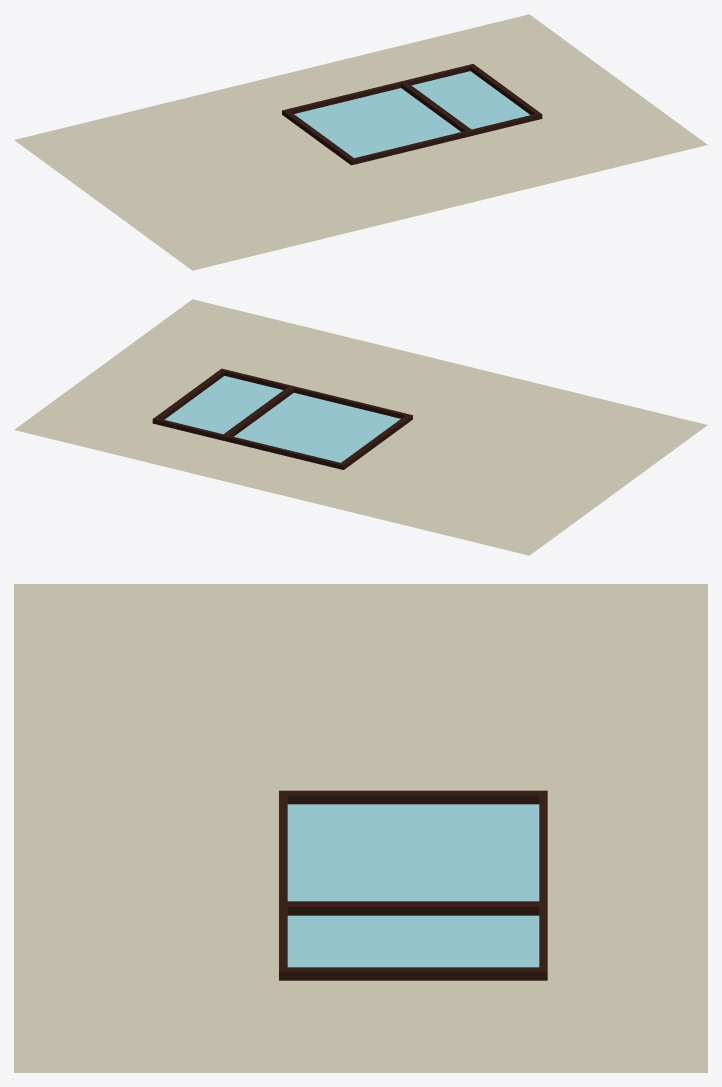
File: window_wall2.fbx
3 renders of one model, top to bottom at view 1: azimuth 30°, elevation 25°; view 2: azimuth 150°, elevation 25°; view 3: azimuth 270°, elevation 25°, orthographic. The views are drawn at different scales.
Visible parts, largest first — view 1: Plane.002; view 2: Plane.002; view 3: Plane.002.
Part boxes in pixels (x1=…): Plane.002: x1=14, y1=14, x2=707, y2=270; Plane.002: x1=14, y1=299, x2=707, y2=555; Plane.002: x1=14, y1=584, x2=707, y2=1072.
Bounding box in the file's own units: 500 × 4.11 × 300.
